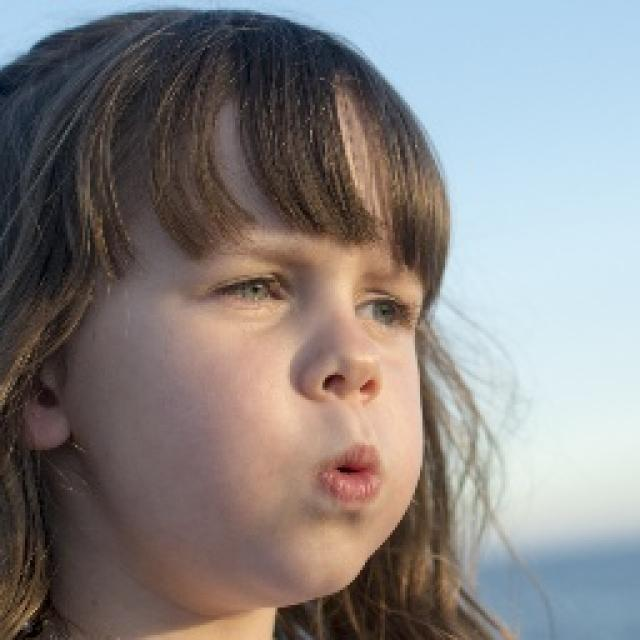earlobe: (26, 398, 68, 452)
eye: (211, 275, 289, 307), (352, 296, 414, 332)
nose: (299, 368, 408, 442)
